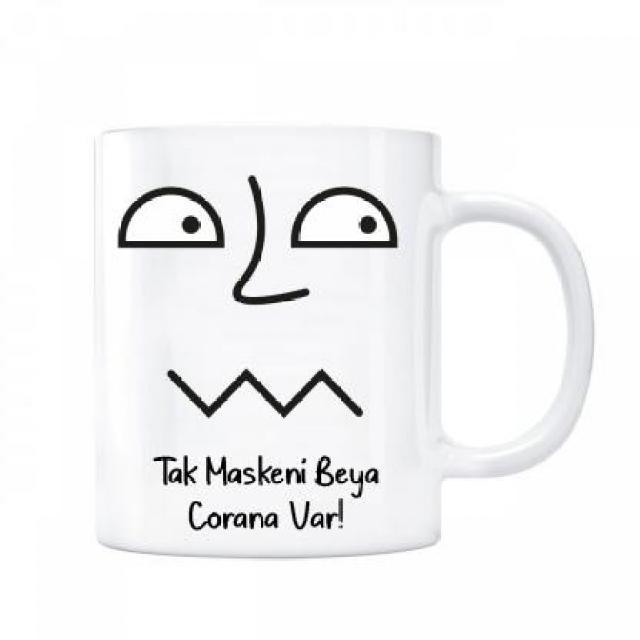taza: (90, 124, 596, 563)
